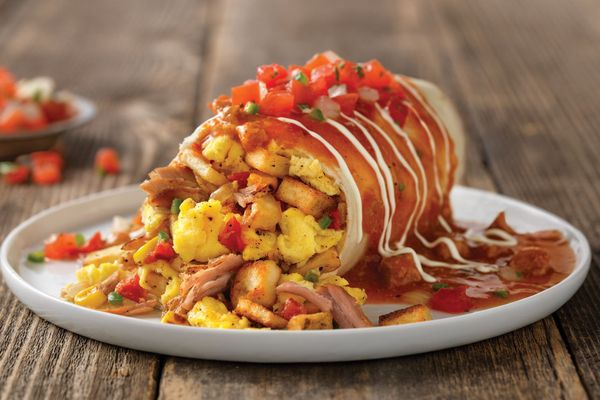curry: (15, 0, 598, 391)
